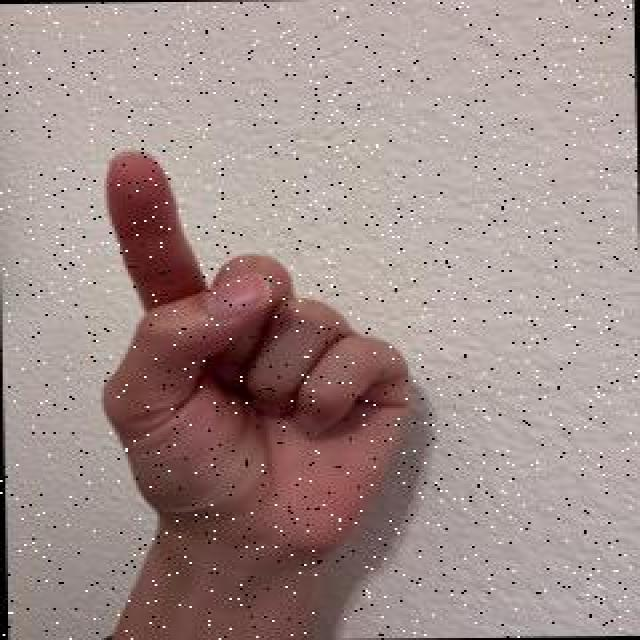Z: (88, 144, 421, 576)
